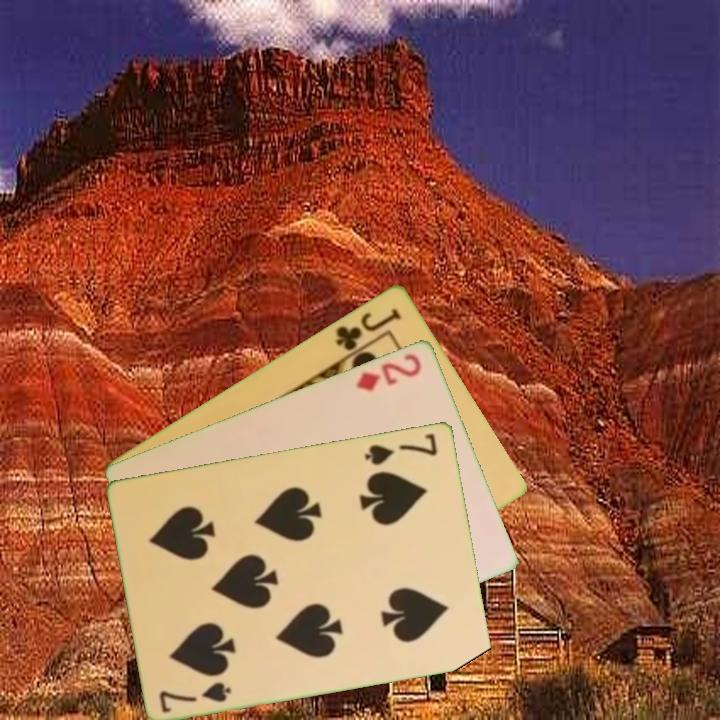2d: (352, 349, 425, 394)
7s: (361, 429, 441, 468), (156, 678, 235, 716)
Jc: (332, 304, 405, 353)
